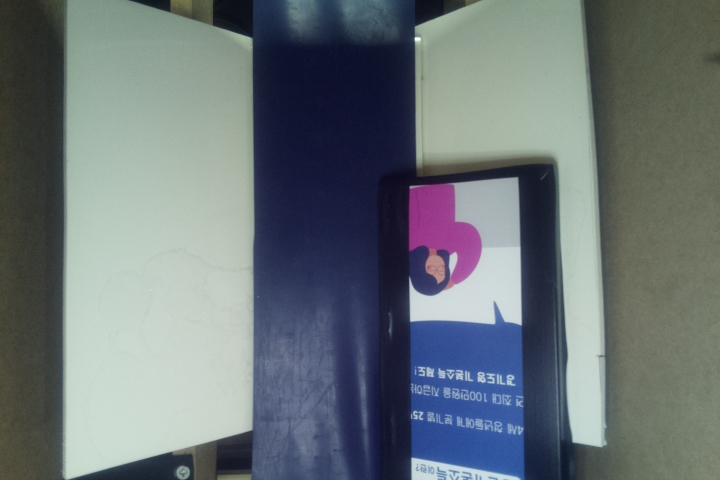book: (380, 166, 567, 480)
